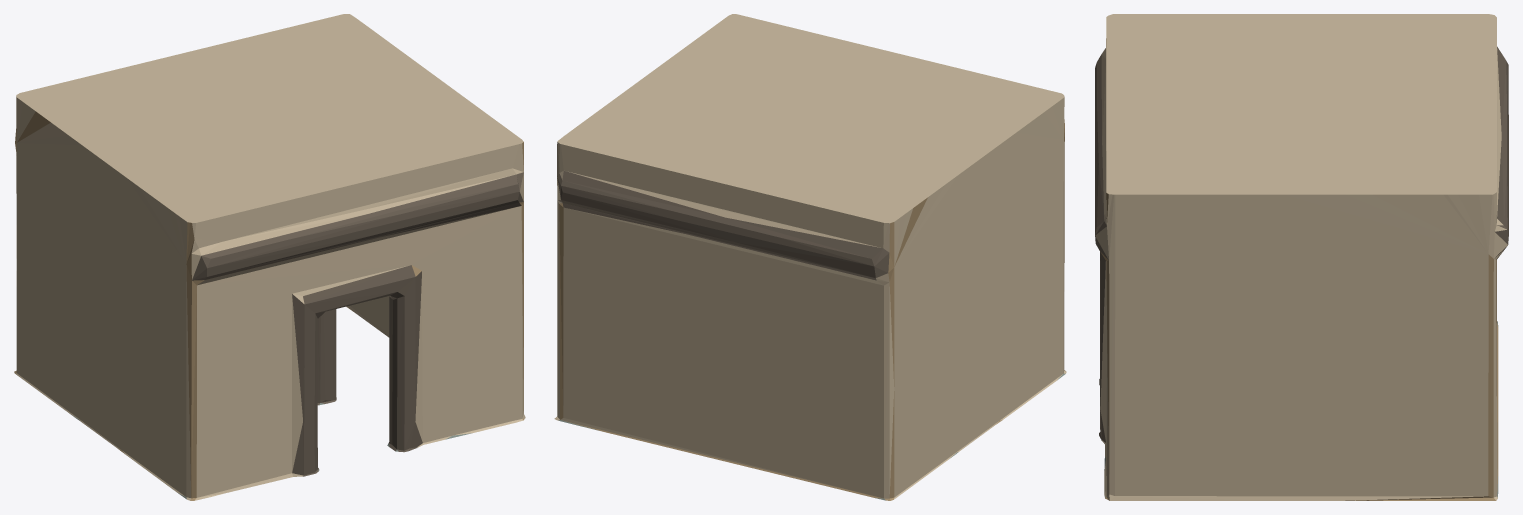
Rendered from etape-1.glb.
3 renders of one model, left to right at view 1: azimuth 30°, elevation 25°; view 2: azimuth 150°, elevation 25°; view 3: azimuth 270°, elevation 25°, orthographic. The views are drawn at different scales.
Visible parts, largest first — view 1: geometry_0; view 2: geometry_0; view 3: geometry_0.
Boxes of the visible parts, <box> form: geometry_0: <box>14,14,525,500</box>; geometry_0: <box>554,14,1066,500</box>; geometry_0: <box>1095,14,1508,500</box>.
Size of the model in its own units: 0.5995 by 0.4692 by 0.5762.
